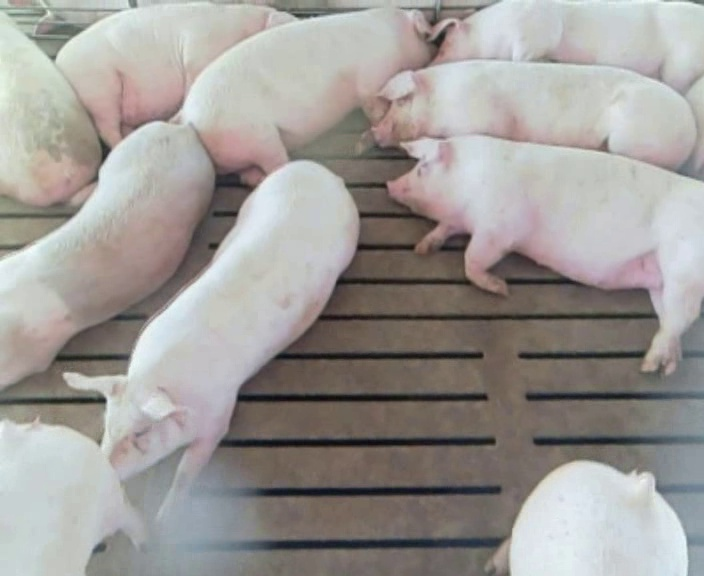pig: (64, 164, 358, 515), (388, 136, 703, 373), (0, 122, 213, 388), (179, 7, 434, 184), (371, 60, 696, 168), (56, 3, 294, 147), (426, 2, 703, 92), (485, 460, 687, 574)
